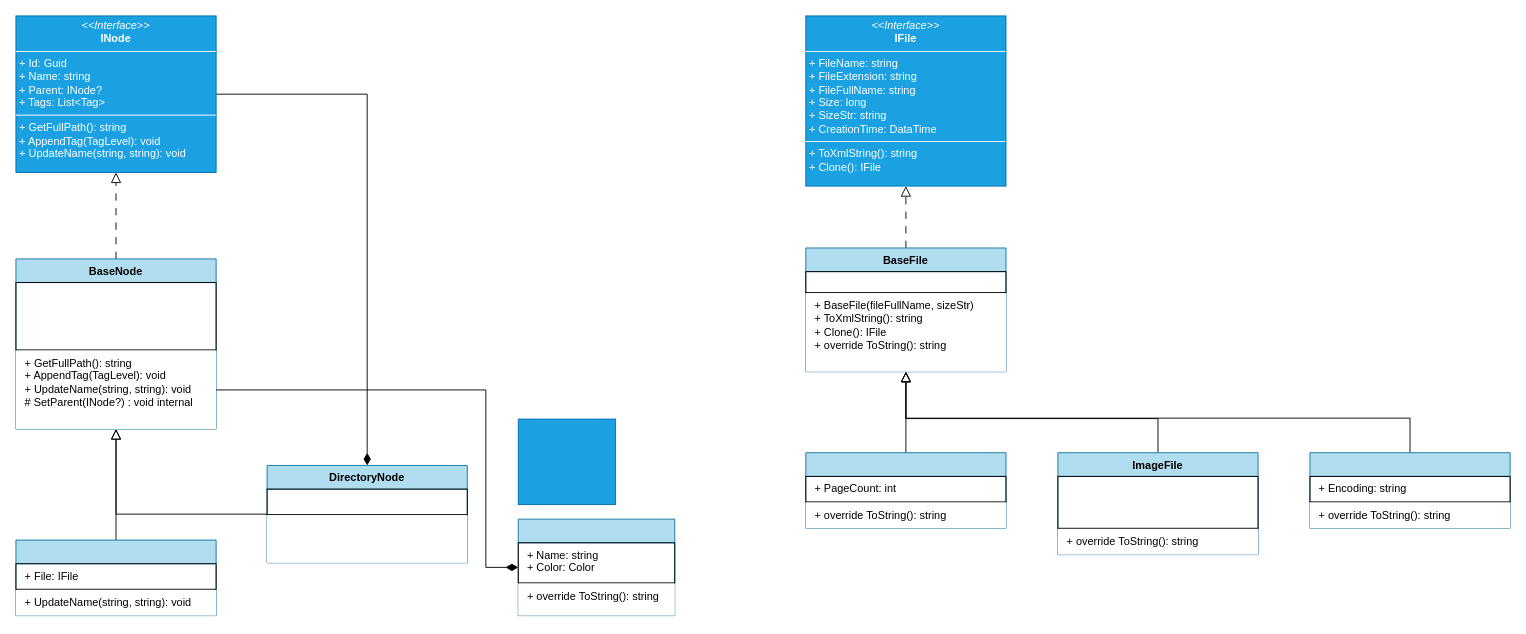
This 1526x634 diagram has some shape labels left out. The box of each missing label's shape, as (x1, y1, x2, y2) in pixels:
+ AddChild(INode): void + RemoveChild(INode): void: (266, 515, 467, 563)
+ Children: List<INode>: (266, 488, 467, 515)
+ Id: Guid + Name: string + Parent: INode? + Tags: List<Tag>: (15, 282, 216, 350)
+ Width: int + Height: int + Resolution: string: (1057, 475, 1258, 528)
<<Enum>> TagLevel Urgent Work Personal: (517, 418, 616, 505)
FileNode: (15, 539, 216, 616)
Tag: (517, 518, 675, 616)
TextFile: (1309, 452, 1510, 528)
WordFile: (805, 452, 1006, 528)
